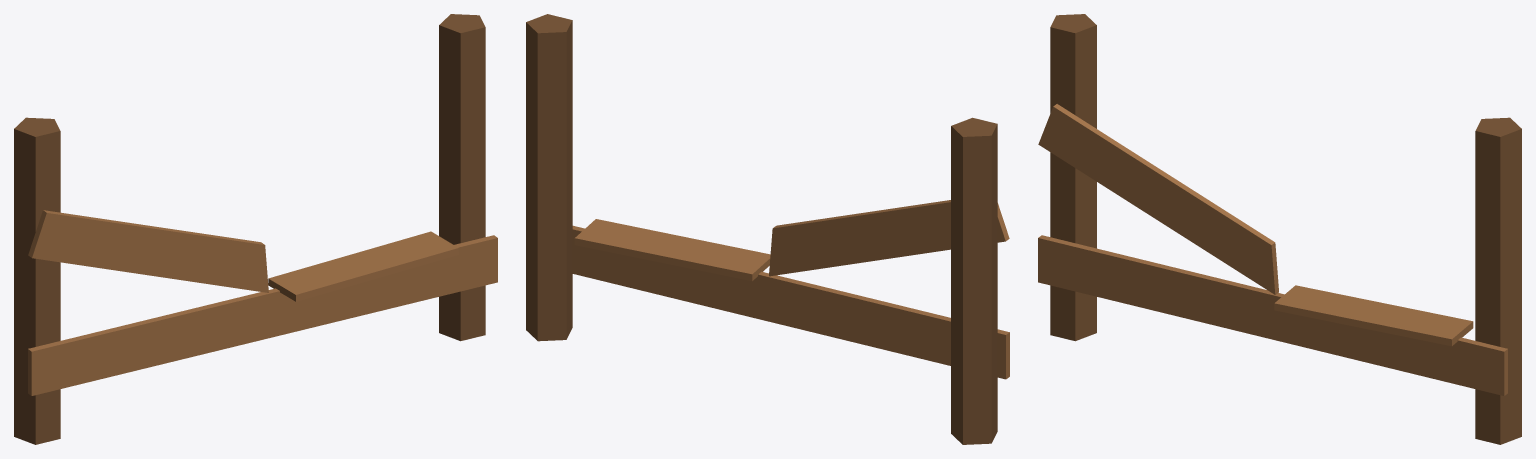
Rendered from BrokenFence.fbx.
3 views of the same model, side by side, from view 1: azimuth 30°, elevation 25°; view 2: azimuth 150°, elevation 25°; view 3: azimuth 330°, elevation 25° (orthographic).
Parts seen in each view (by area): view 1: BrokenFence; view 2: BrokenFence; view 3: BrokenFence.
Part boxes in pixels (x1,y1,x2,y2): BrokenFence: [14, 14, 497, 444]; BrokenFence: [526, 14, 1009, 444]; BrokenFence: [1038, 14, 1521, 444].
Size of the model in its own units: 2193 by 1385 by 330.
